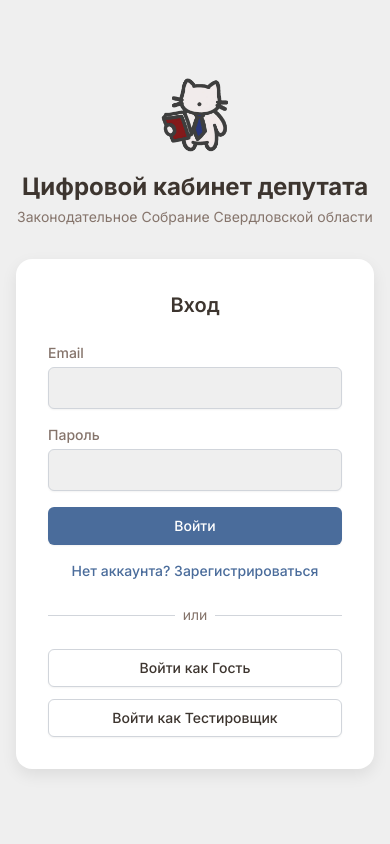
Test: LoginPage › should switch to the registration view when the toggle button is clicked
This screenshot has width=390, height=844.
Click the button "Нет аккаунта? Зарегистрироваться": {"x": 195, "y": 571} top-left (72, 561), bottom-right (318, 581)
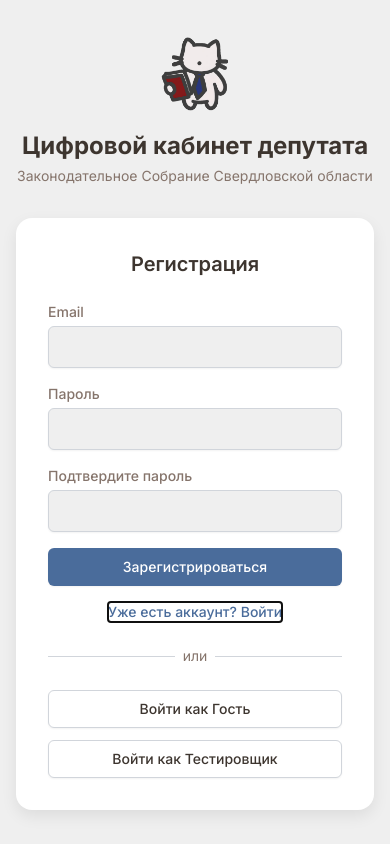
Expected: the heading "Регистрация" is shown, top-left (131, 252), bottom-right (259, 276)
Expected: the password field labelled "Подтвердите пароль" is shown, top-left (48, 490), bottom-right (342, 532)
Expected: the button "Зарегистрироваться" is shown, top-left (48, 548), bottom-right (342, 586)
